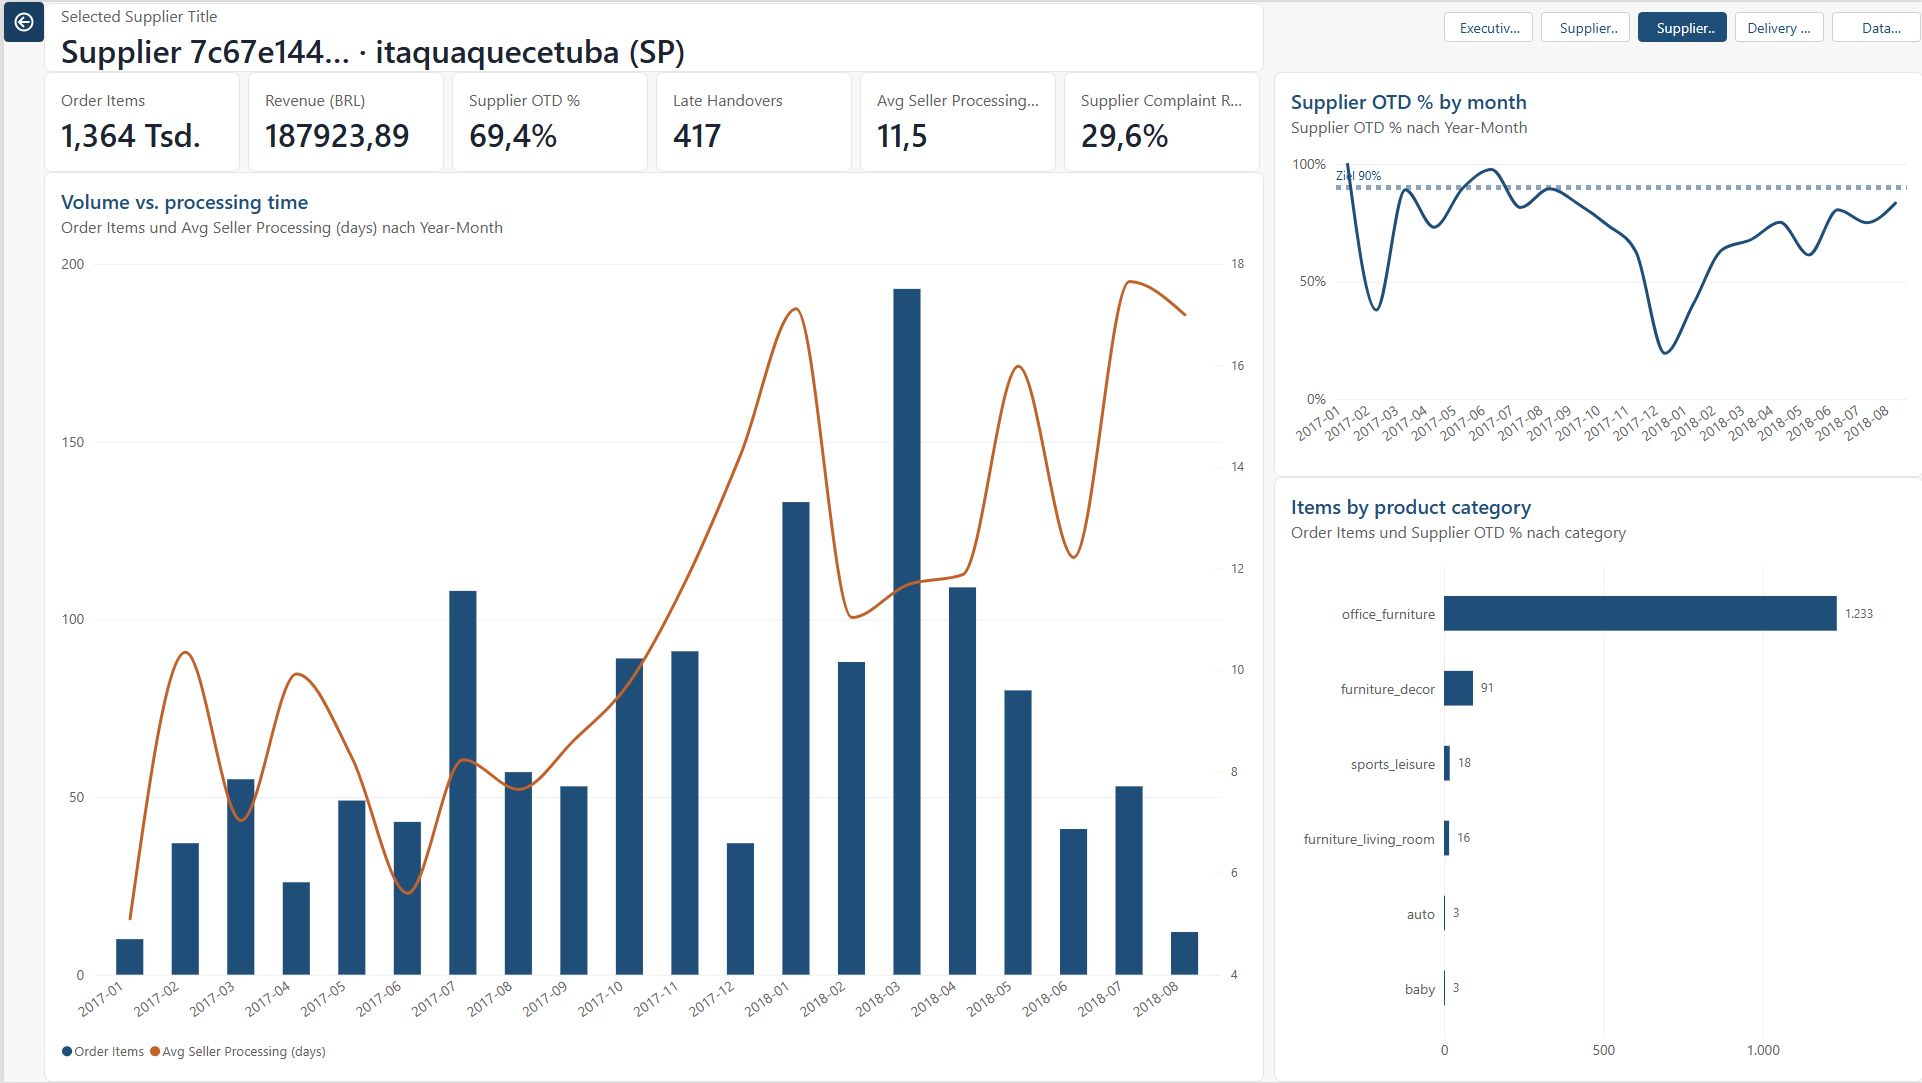

The dashboard page shown, as its layout file describes it:
{"tool":"powerbi","page":{"name":"Supplier Detail","canvas":[1920,1080],"ordinal":2},"visuals":[{"type":"actionButton","box":[0,0,40,40],"z":0},{"type":"cardVisual","fields":{"Data":["_Measures.Selected Supplier Title"]},"box":[40.5,1.1,1219.3,68.6],"z":1000},{"type":"cardVisual","fields":{"Data":["_Measures.Order Items","_Measures.Revenue (BRL)","_Measures.Supplier OTD %","_Measures.Late Handovers","_Measures.Avg Seller Processing (days)","_Measures.Supplier Complaint Rate %"]},"box":[40.5,69.7,1219.3,100.1],"z":2000},{"type":"lineClusteredColumnComboChart","title":"Volume vs. processing time","fields":{"Category":["dim_date.Year-Month"],"Y":["_Measures.Order Items"],"Y2":["_Measures.Avg Seller Processing (days)"]},"box":[40.5,169.8,1219.3,909.9],"z":3000},{"type":"lineChart","title":"Supplier OTD % by month","fields":{"Category":["dim_date.Year-Month"],"Y":["_Measures.Supplier OTD %"]},"box":[1269.9,69.7,650.1,404.9],"z":3001},{"type":"clusteredBarChart","title":"Items by product category","fields":{"Category":["dim_product.category"],"Y":["_Measures.Order Items"]},"box":[1269.9,474.7,650.1,605.1],"z":3002},{"type":"pageNavigator","box":[1439.7,10.1,480,30],"z":3003}]}

Visuals, with their boxes in screenshot pixels (x1, y1, x2, y2), scaled from the page's 1920x1080 canvas onto the 1922x1083 screenshot:
actionButton: bbox(0, 0, 40, 40)
cardVisual - _Measures.Selected Supplier Title: bbox(41, 1, 1261, 70)
cardVisual - _Measures.Order Items x _Measures.Revenue (BRL): bbox(41, 70, 1261, 170)
"Volume vs. processing time" lineClusteredColumnComboChart: bbox(41, 170, 1261, 1082)
"Supplier OTD % by month" lineChart: bbox(1271, 70, 1921, 476)
"Items by product category" clusteredBarChart: bbox(1271, 476, 1921, 1082)
pageNavigator: bbox(1441, 10, 1921, 40)
